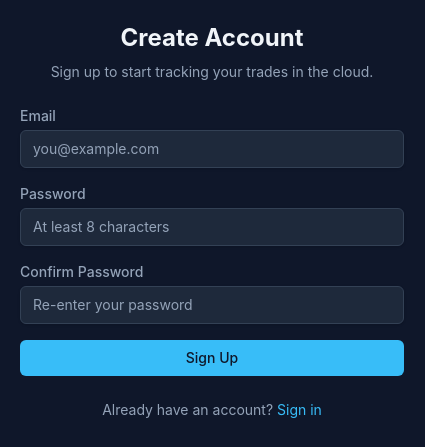
Test: SignupPage › shows validation error for invalid email format
The image size is (425, 447).
Step 1. Type "notanemail" into the field labelled "Email" → (212, 149), box [20,130,404,168]
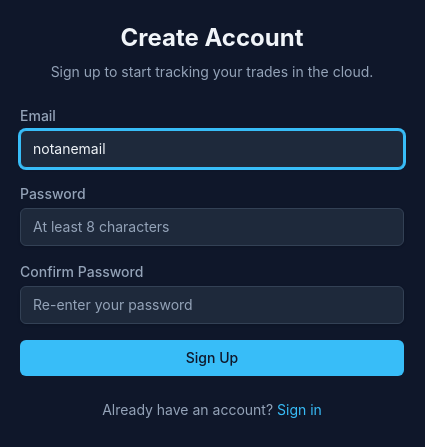
Step 2. Type "validpass1" into the password field labelled "Password" → (212, 227), box [20,208,404,246]
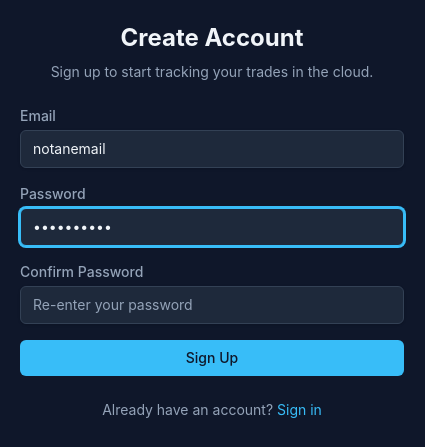
Step 3. Type "validpass1" into the password field labelled "Confirm Password" → (212, 305), box [20,286,404,324]
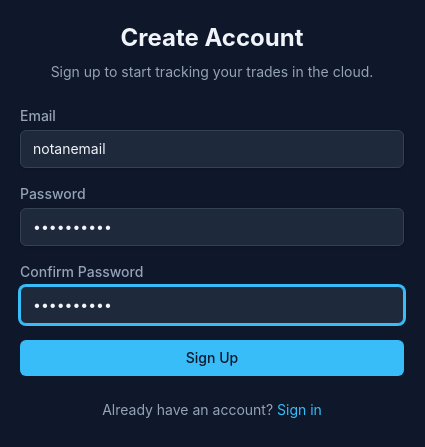
Step 4. Click the button "Sign Up" → (212, 358), box [20,340,404,376]
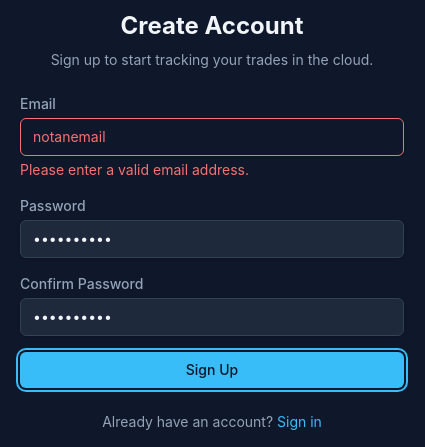
Expected: the text "Please enter a valid email address." is shown, [20,161,249,178]
